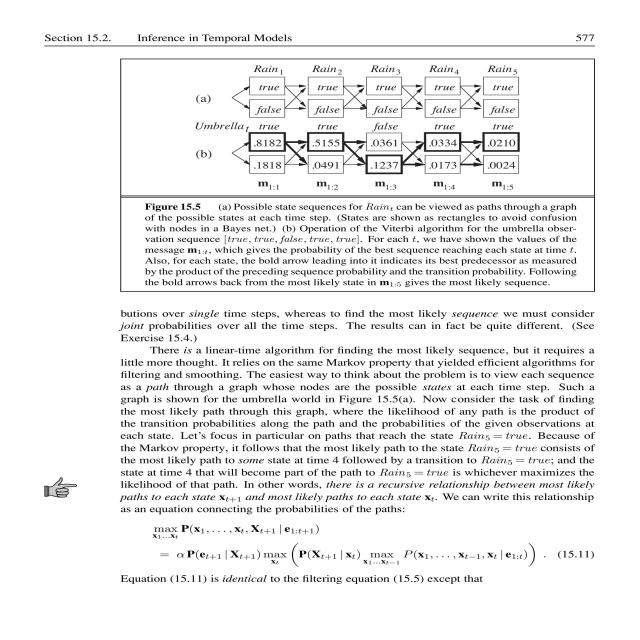diagram: (124, 58, 586, 292)
